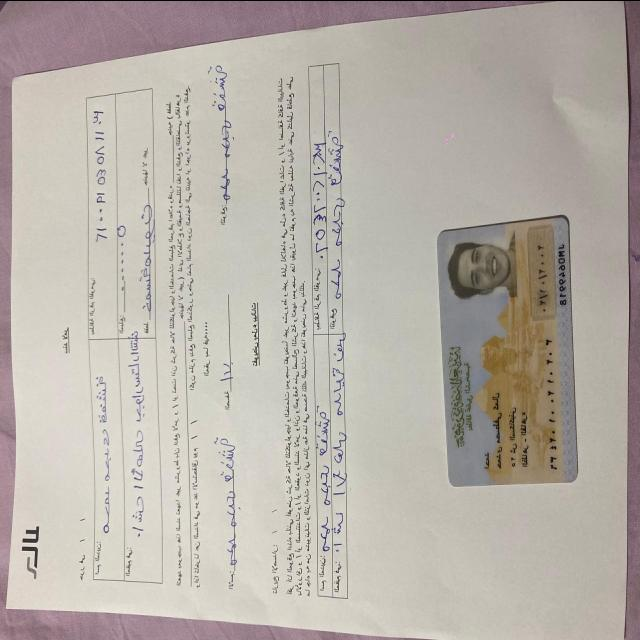id_card: (433, 209, 585, 494)
